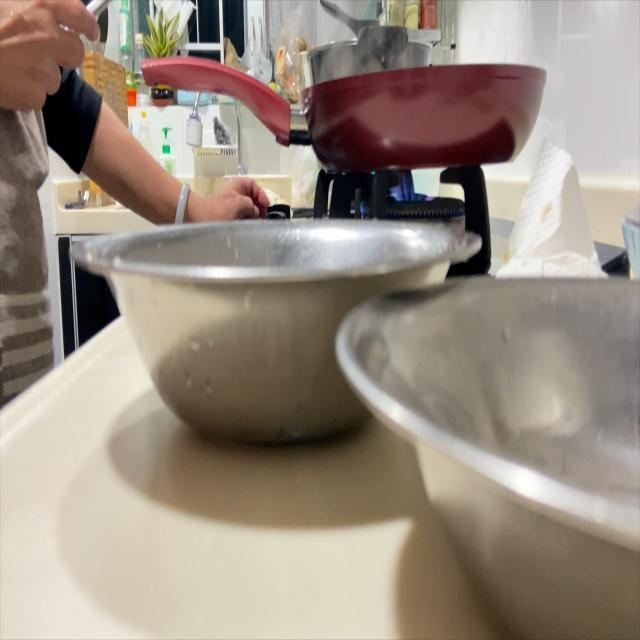Flame: (372, 173, 445, 210)
Pan: (162, 63, 560, 175)
